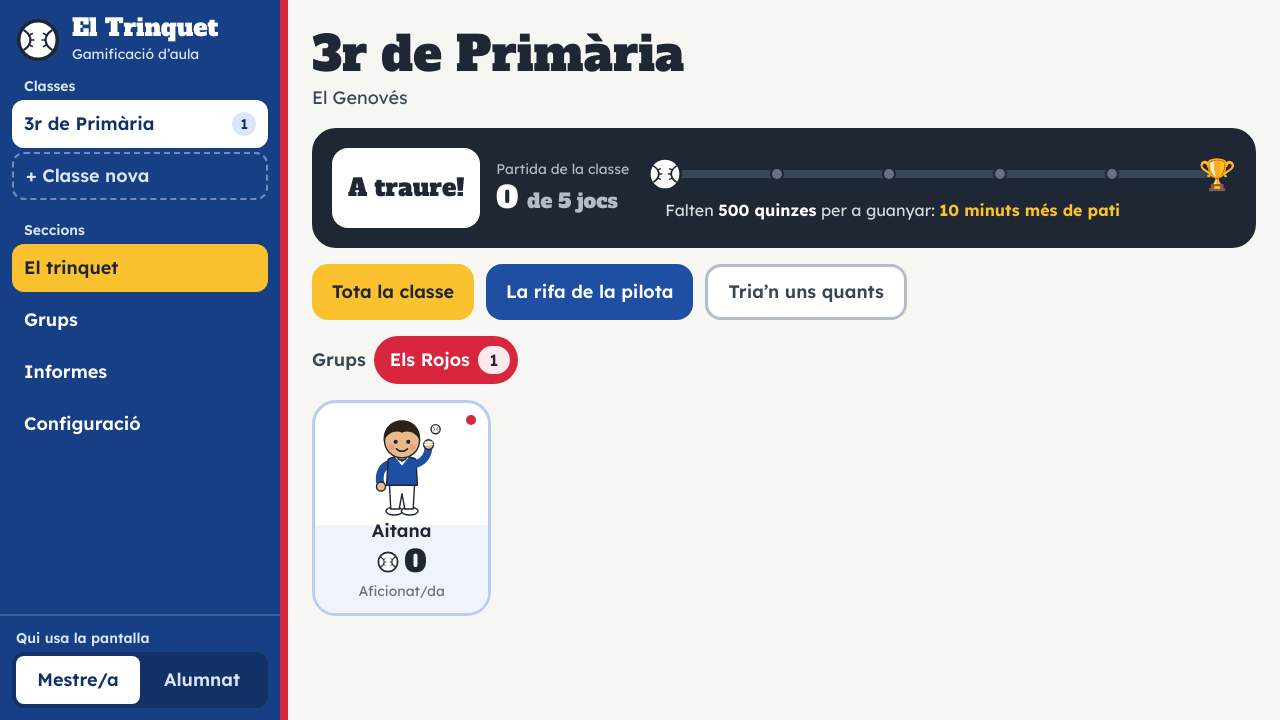
Test case: grups dins d’una classe › els grups no es veuen en mode alumnat
Click the button "Alumnat" at [202, 680], box top-left (140, 656), bottom-right (264, 704)
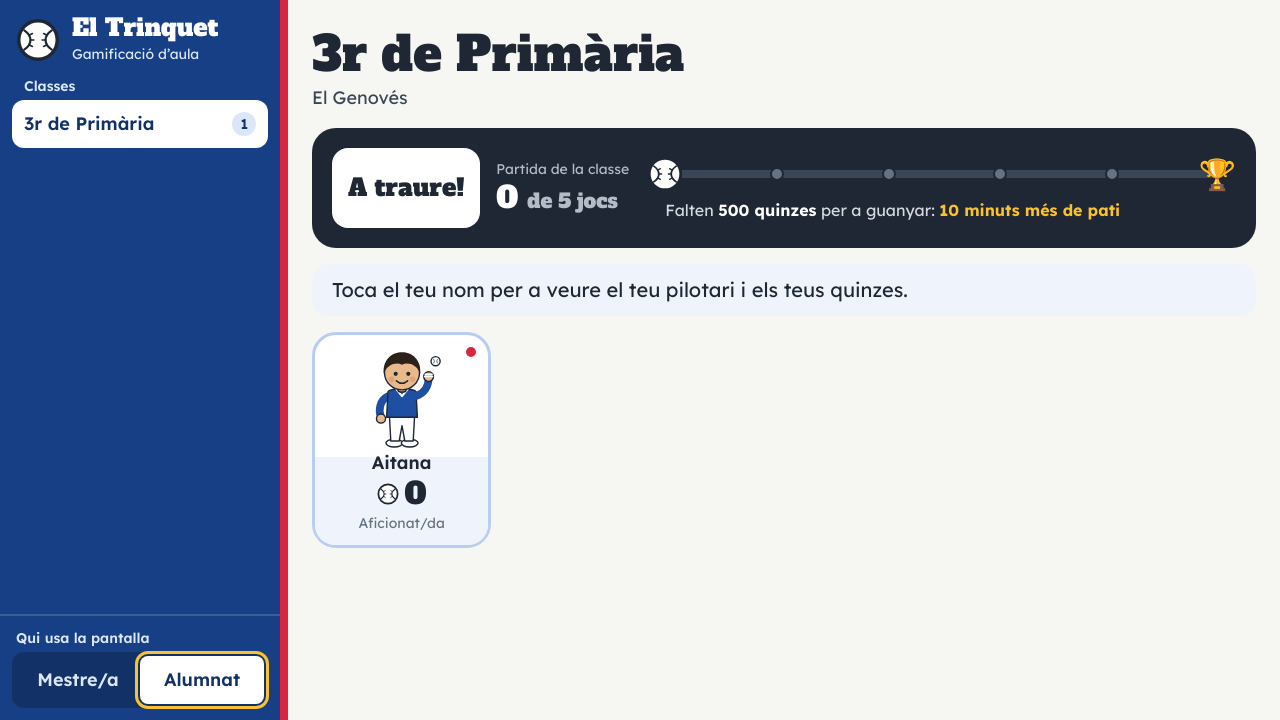
Expected: the button "Grups" is gone
